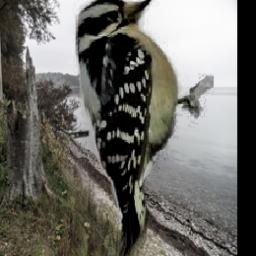Woodpecker: (72, 0, 215, 256)
